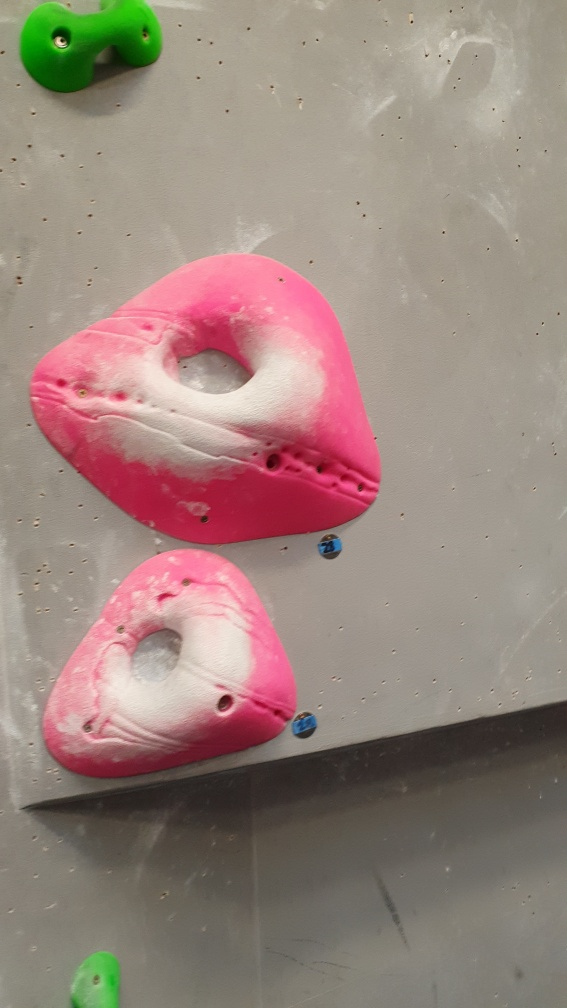Hand Start: (310, 529, 353, 565), (292, 709, 321, 745)
Pocket: (25, 249, 383, 547), (42, 545, 302, 782)
